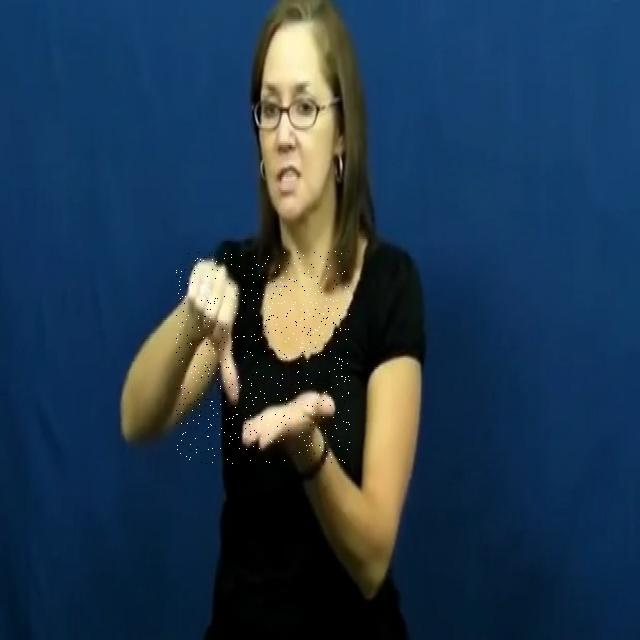sauce: (176, 251, 350, 464)
